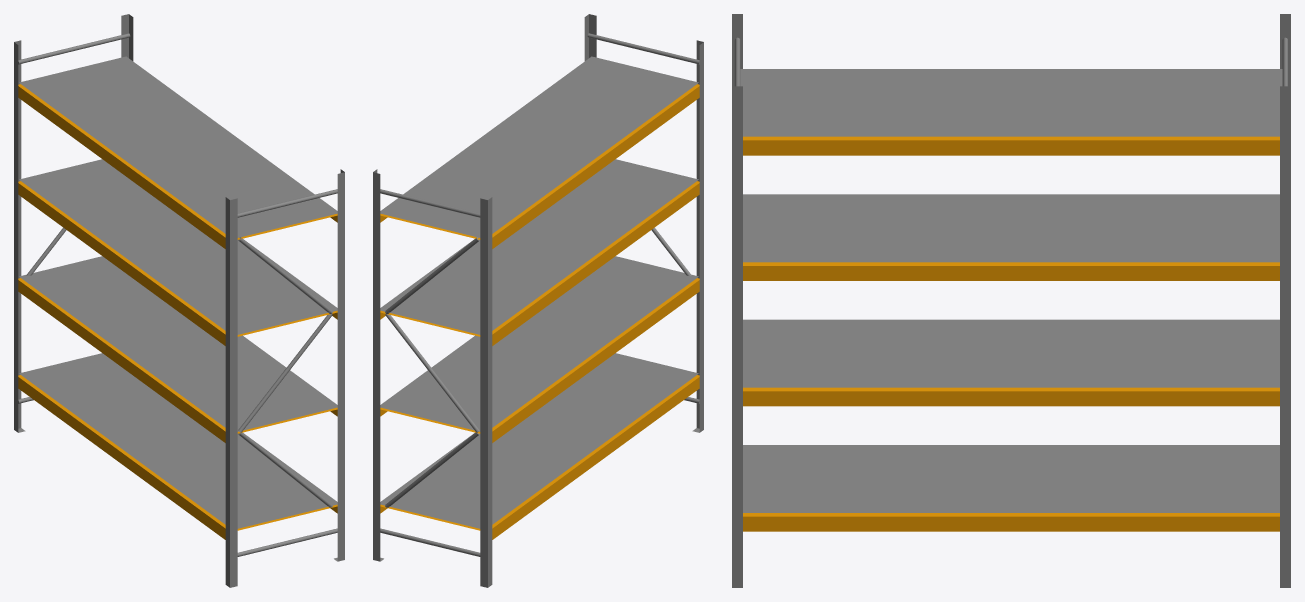
File: PolcÁllvány.fbx
3 views of the same model, side by side, from view 1: azimuth 30°, elevation 25°; view 2: azimuth 150°, elevation 25°; view 3: azimuth 270°, elevation 25° (orthographic). The views are drawn at different scales.
Parts seen in each view (by area): view 1: Cylinder.009; view 2: Cylinder.009; view 3: Cylinder.009.
Boxes of the visible parts, left/top/right/bottom form: Cylinder.009: left=14, top=14, right=344, bottom=587; Cylinder.009: left=373, top=14, right=703, bottom=587; Cylinder.009: left=732, top=14, right=1290, bottom=587.
Size of the model in its own units: 62 by 200 by 202.
